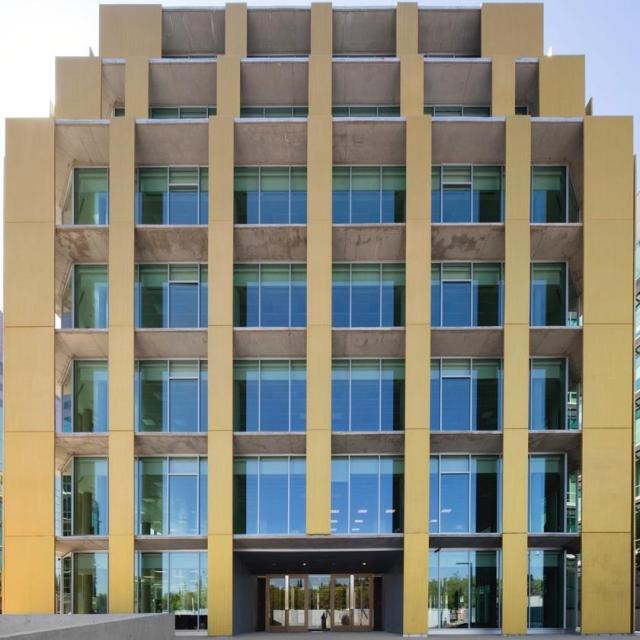door: (264, 573, 330, 633), (330, 572, 373, 633)
wall: (3, 2, 634, 637)
windows: (425, 552, 502, 628), (329, 455, 404, 533), (329, 356, 404, 432), (233, 455, 308, 531), (232, 354, 306, 430), (136, 456, 206, 536), (134, 359, 208, 434), (431, 456, 502, 532), (430, 359, 502, 429), (135, 165, 211, 228), (231, 263, 307, 326), (329, 264, 403, 328), (233, 161, 309, 223), (331, 162, 405, 225), (133, 268, 208, 330), (135, 552, 206, 612), (430, 267, 502, 326), (432, 165, 504, 223), (56, 549, 108, 617), (66, 457, 108, 533), (71, 360, 108, 432), (529, 456, 563, 532), (529, 552, 562, 628), (532, 359, 568, 426), (528, 166, 570, 222), (526, 268, 567, 324), (73, 166, 110, 227), (71, 269, 108, 329), (422, 104, 492, 120), (147, 107, 215, 120), (334, 107, 402, 119), (242, 109, 308, 118)
